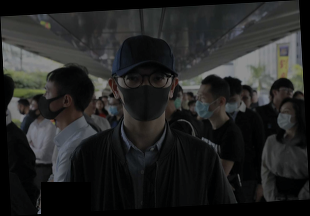with_mask: (117, 67, 171, 120), (36, 84, 63, 121), (194, 91, 218, 119), (276, 106, 297, 131), (224, 95, 240, 114), (28, 102, 39, 122), (107, 101, 119, 116)
without_mask: (275, 86, 293, 105)
